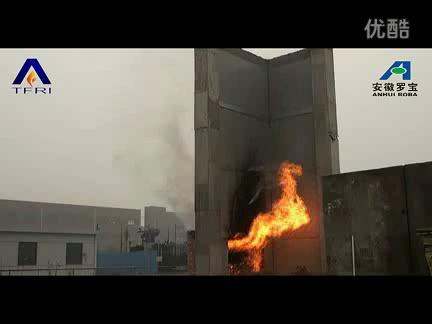fire: (225, 158, 314, 275)
